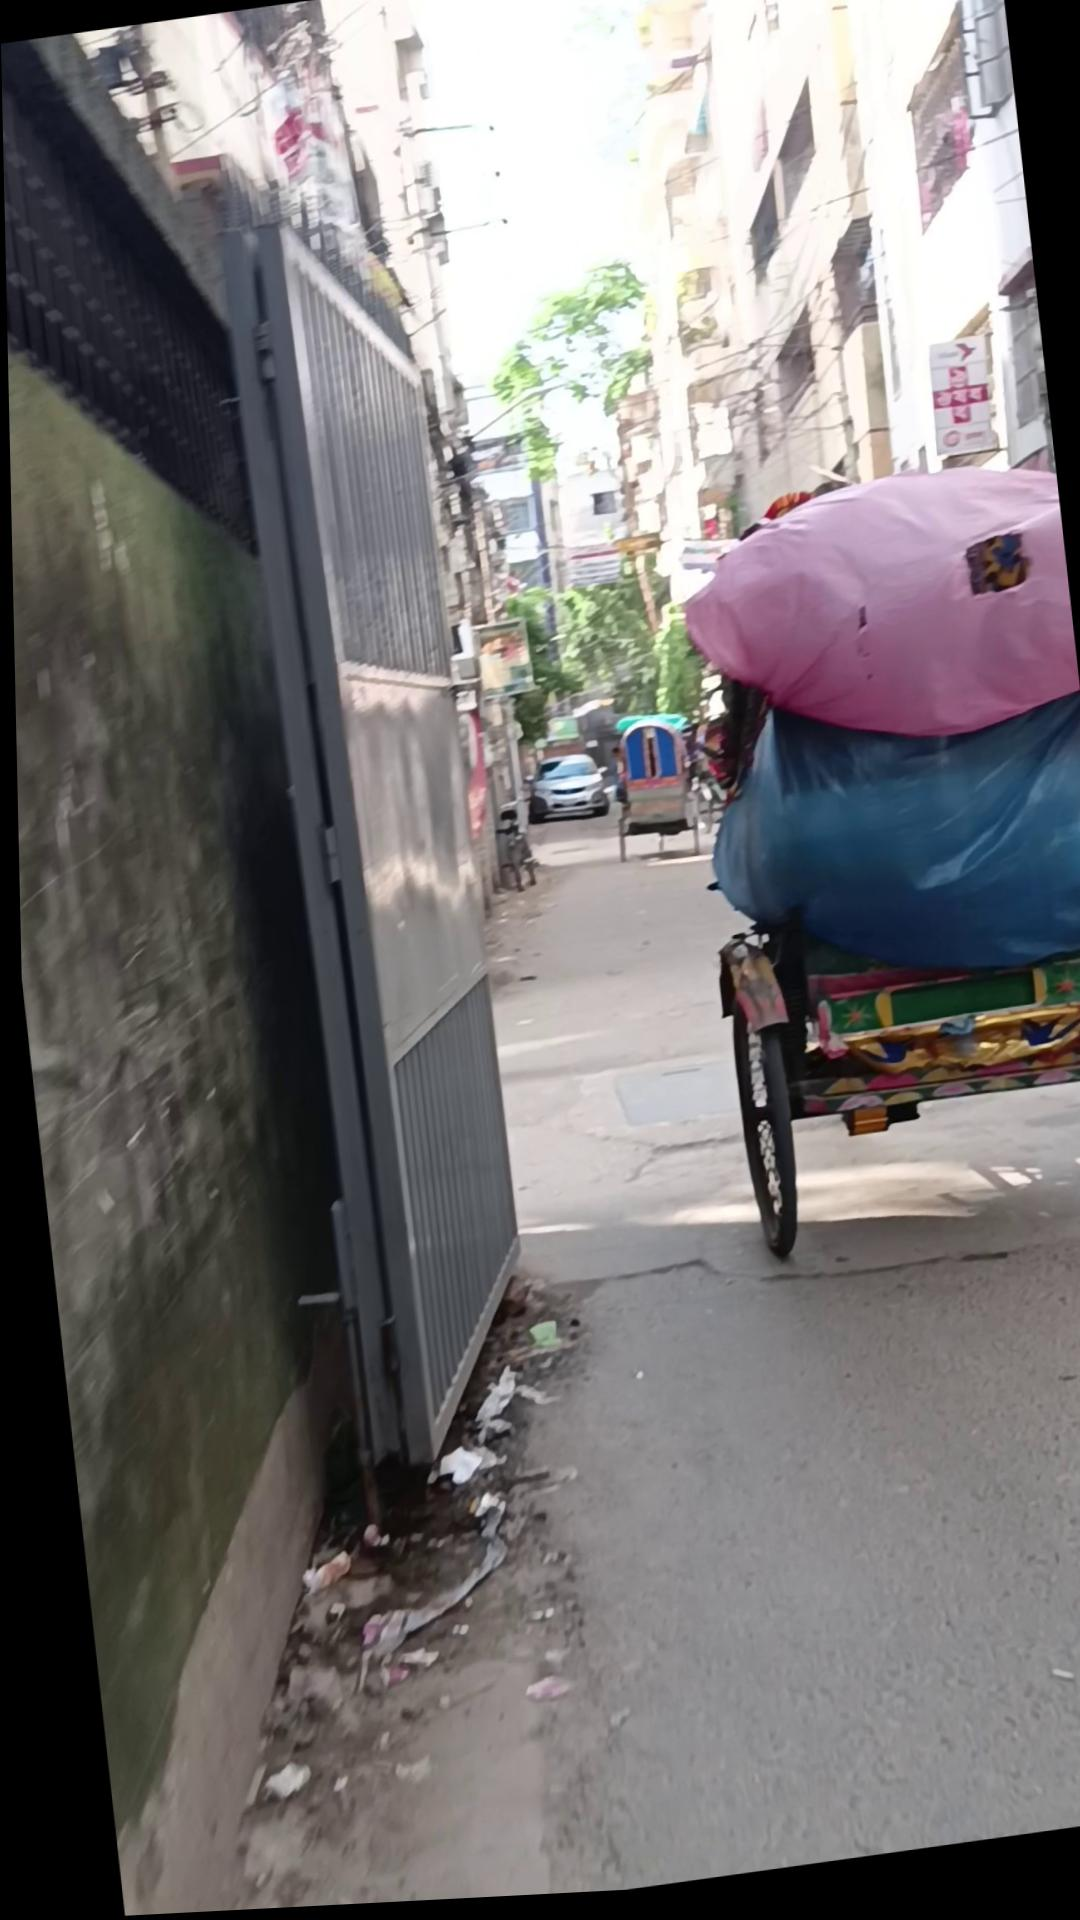Car: (517, 756, 605, 832)
Pothole: (657, 460, 1080, 1275)
Tree: (0, 13, 381, 1920)
